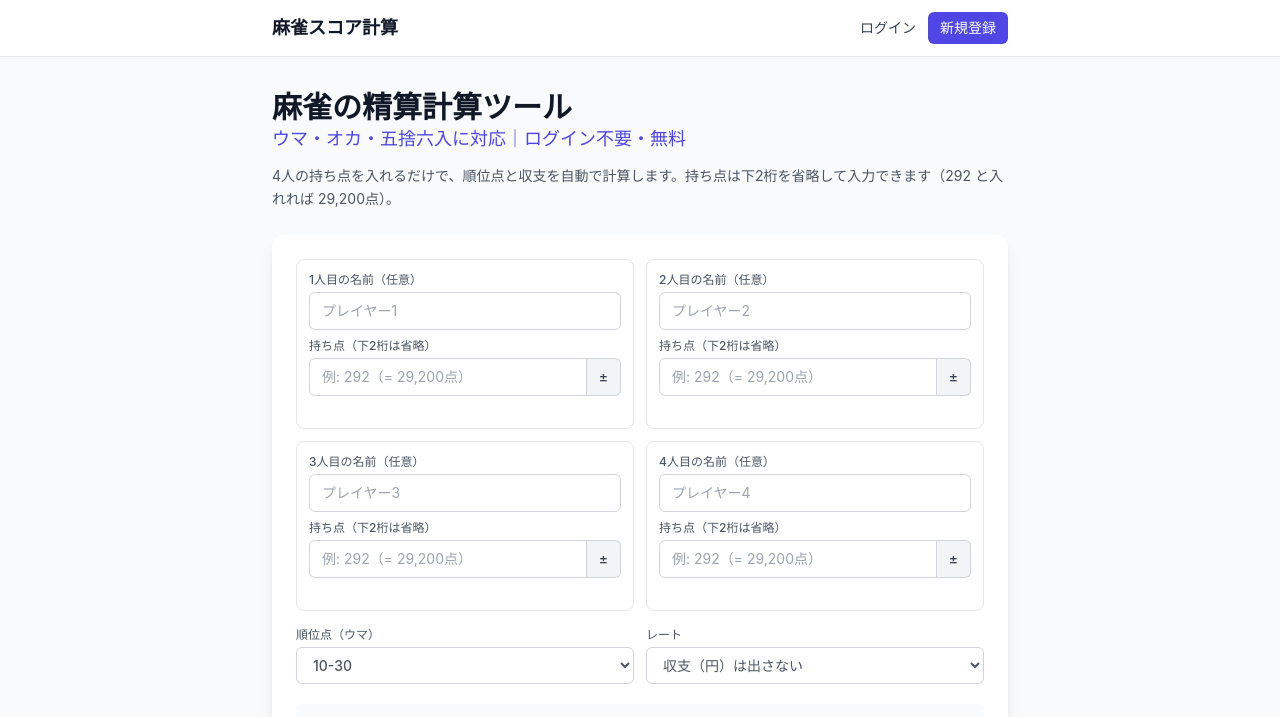
Test: Landing（ログイン不要の精算計算ツール） › 下2桁省略の入力を、変換後の点数で表示する
This screenshot has width=1280, height=717.
Step 1. Type "292" into the 1st field labelled "持ち点（下2桁は省略）" → (448, 376), box [309, 358, 587, 396]
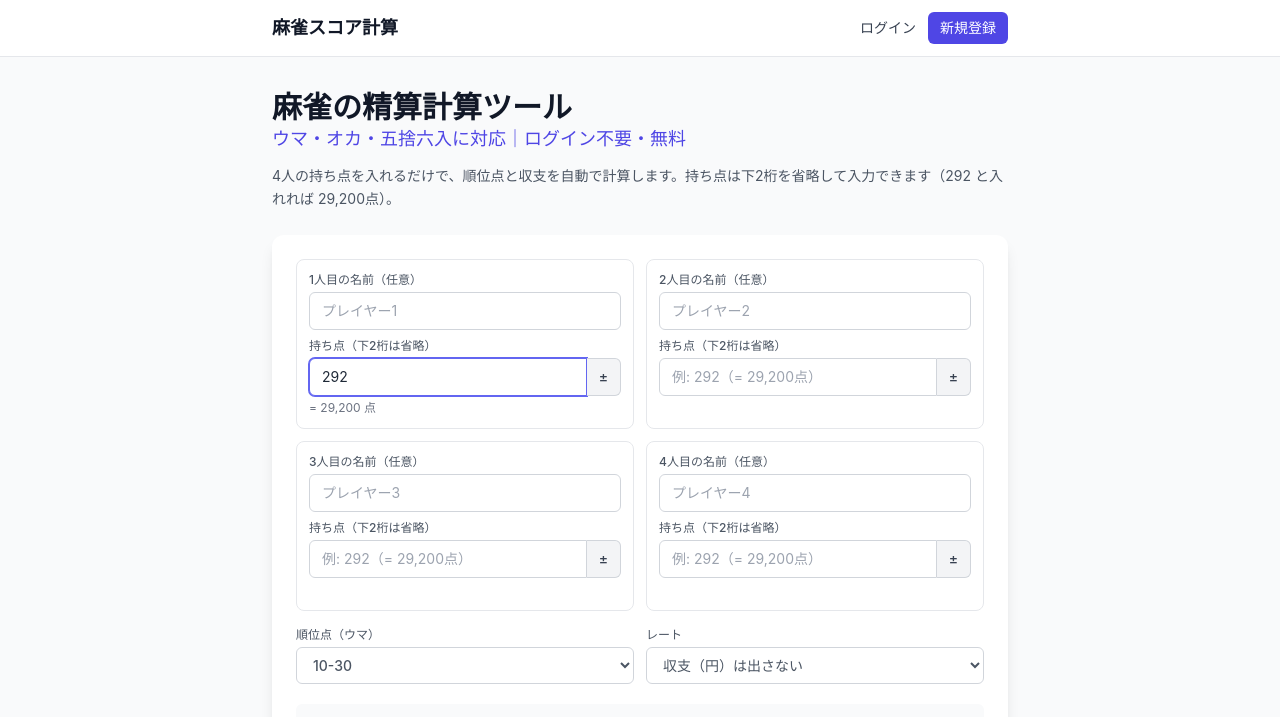
Check: the text "= 29,200 点" is shown, box [309, 400, 376, 414]
